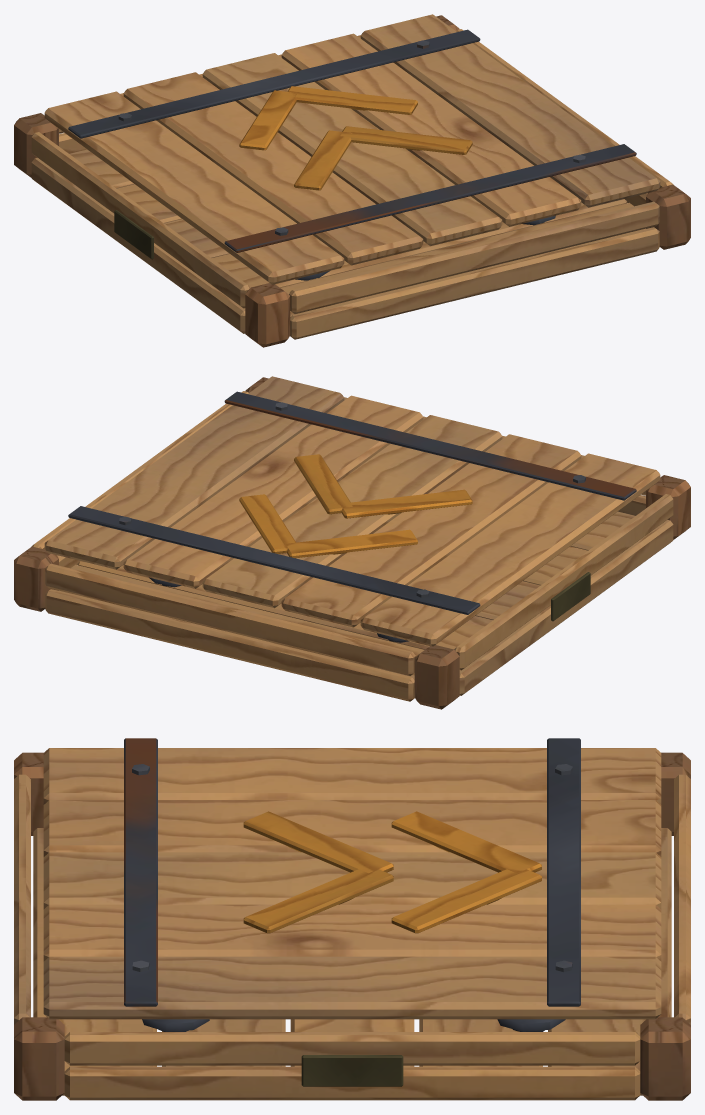
The model's file is firlatma_pedi.glb.
3 renders of one model, top to bottom at view 1: azimuth 30°, elevation 25°; view 2: azimuth 150°, elevation 25°; view 3: azimuth 270°, elevation 25°, orthographic. The views are drawn at different scales.
Parts seen in each view (by area): view 1: plate, firlatma_pedi; view 2: plate, firlatma_pedi; view 3: plate, firlatma_pedi.
Part boxes in pixels (x1,y1,x2,y2): plate: [44, 14, 660, 284]; firlatma_pedi: [14, 15, 690, 347]; plate: [44, 376, 660, 646]; firlatma_pedi: [14, 377, 690, 709]; plate: [43, 738, 661, 1019]; firlatma_pedi: [14, 752, 690, 1100].
Size of the model in its own units: 1.62 by 0.248 by 1.6.
Materials: 1 (1 with a texture image).
